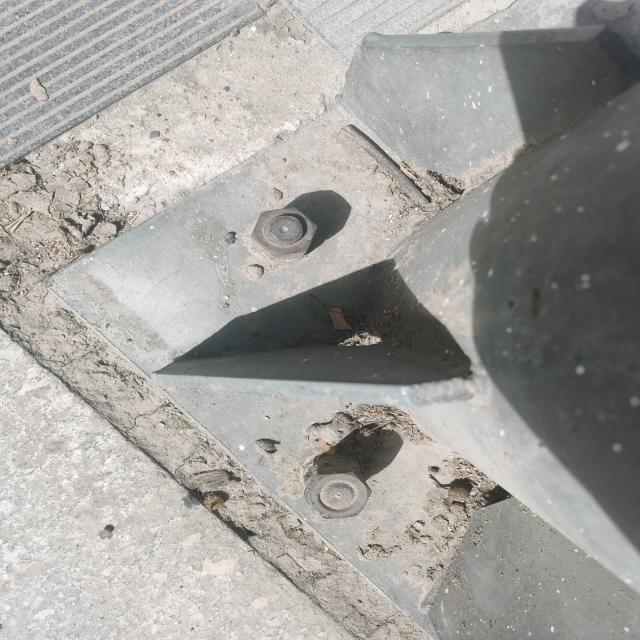Rusty bolt: (305, 464, 373, 521), (250, 208, 320, 262)
